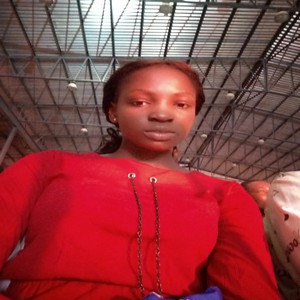Fulokoja_female_student: (79, 62, 216, 276)
